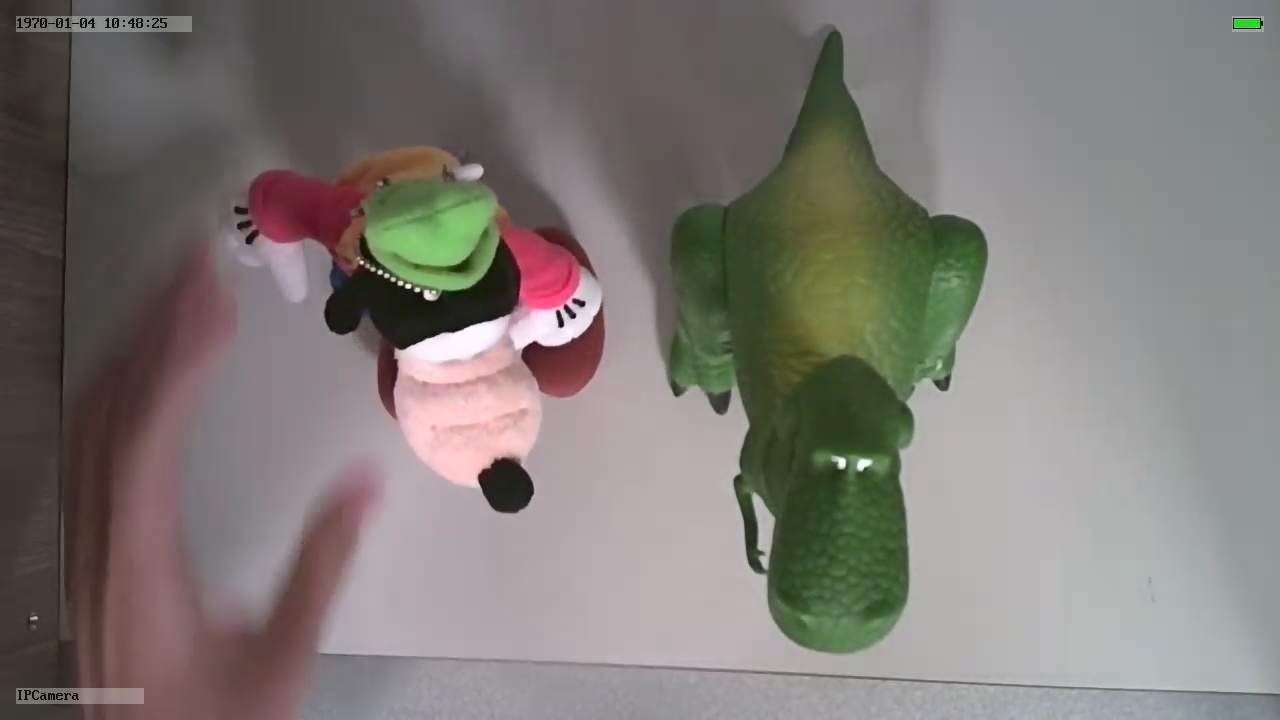rex: (667, 133, 990, 656)
